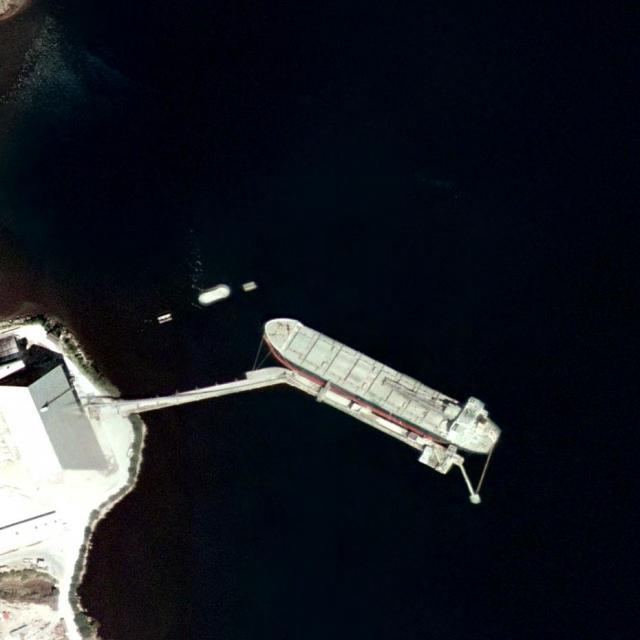Cargo: (253, 295, 511, 463)
Dock: (270, 363, 467, 480)
